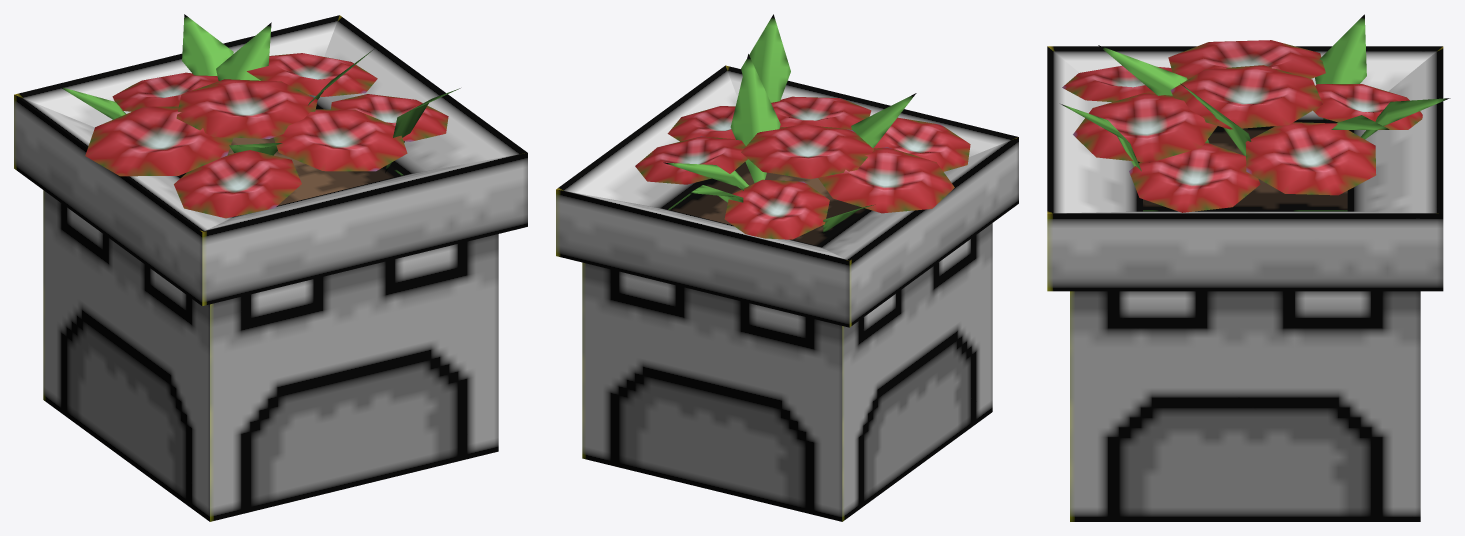
File: deco_stonePot_flowersRed.FBX
3 renders of one model, left to right at view 1: azimuth 30°, elevation 25°; view 2: azimuth 150°, elevation 25°; view 3: azimuth 270°, elevation 25°, orthographic. The views are drawn at different scales.
Parts seen in each view (by area): view 1: deco_stonePot_flowersRed; view 2: deco_stonePot_flowersRed; view 3: deco_stonePot_flowersRed.
Part boxes in pixels (<box>): deco_stonePot_flowersRed: <box>14,14,527,521</box>; deco_stonePot_flowersRed: <box>556,14,1018,521</box>; deco_stonePot_flowersRed: <box>1047,14,1450,521</box>.
Size of the model in its own units: 1.16 by 1.27 by 1.15.
Materials: 1 (1 with a texture image).
